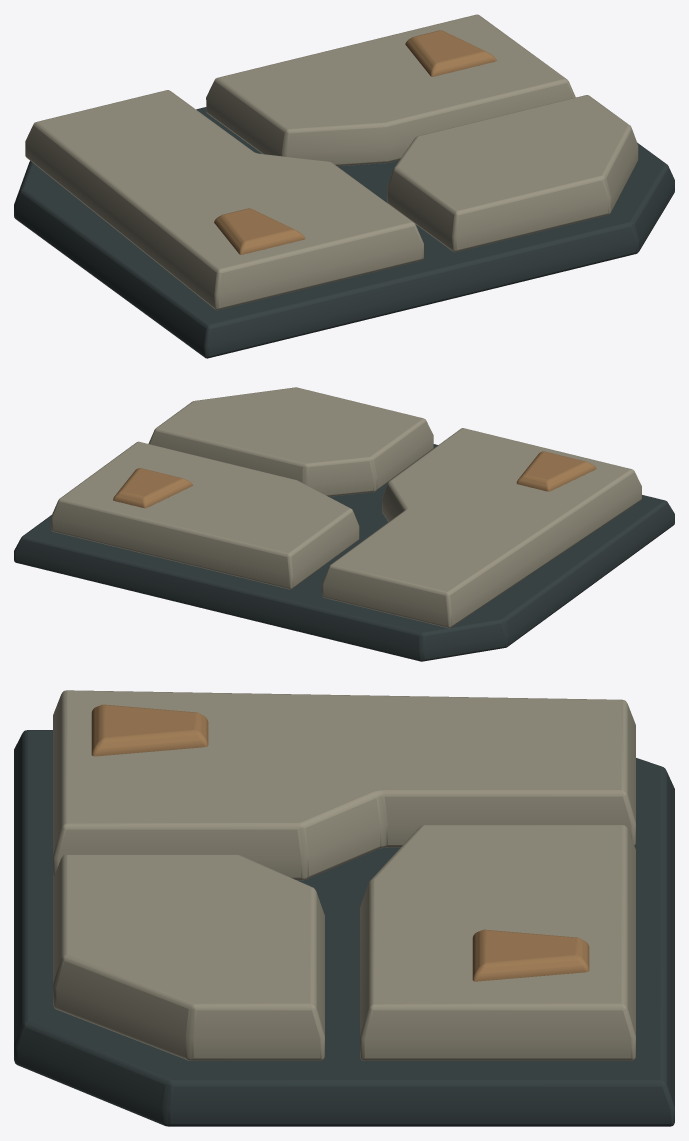
The model's file is repair_face_tile_lod1.glb.
The picture shows the model from 3 angles, top to bottom: view 1: azimuth 30°, elevation 25°; view 2: azimuth 150°, elevation 25°; view 3: azimuth 270°, elevation 25°; orthographic projection. The views are drawn at different scales.
Parts seen in each view (by area): view 1: LOD1_ancient, LOD1_substrate, LOD1_vein; view 2: LOD1_ancient, LOD1_substrate, LOD1_vein; view 3: LOD1_ancient, LOD1_substrate, LOD1_vein.
Part boxes in pixels (x1,y1,x2,y2): LOD1_ancient: [25, 14, 638, 310]; LOD1_substrate: [14, 107, 674, 358]; LOD1_vein: [214, 30, 496, 254]; LOD1_ancient: [51, 387, 641, 628]; LOD1_substrate: [14, 444, 674, 661]; LOD1_vein: [113, 451, 596, 508]; LOD1_ancient: [53, 690, 635, 1060]; LOD1_substrate: [14, 730, 674, 1126]; LOD1_vein: [91, 704, 589, 981].
Size of the model in its own units: 2.2 by 0.315 by 1.7.
